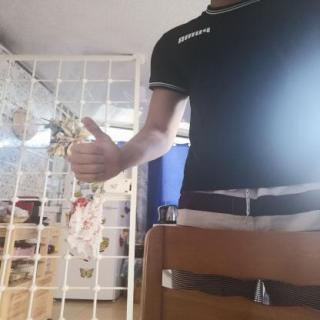ALIF: (60, 110, 132, 188)
